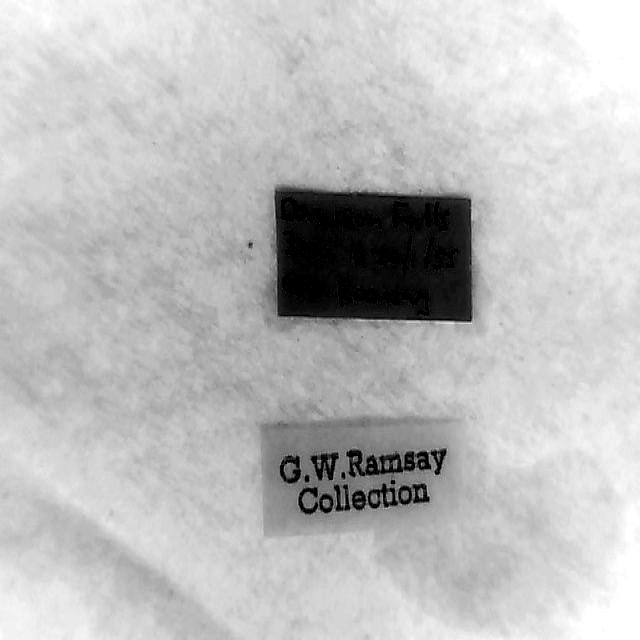hand_label: (275, 192, 472, 321)
typed_label: (261, 422, 464, 537)
